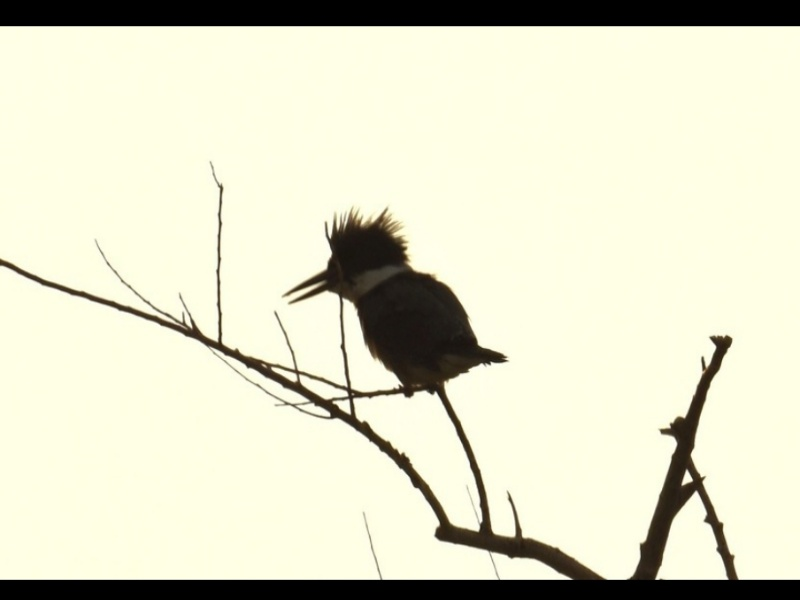kingfisher: (281, 206, 510, 399)
